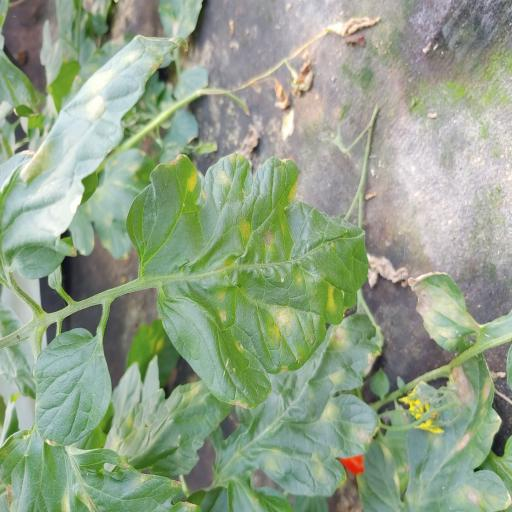disease_tomato: (128, 152, 370, 410), (0, 33, 183, 283), (212, 312, 384, 498), (357, 352, 512, 512)
